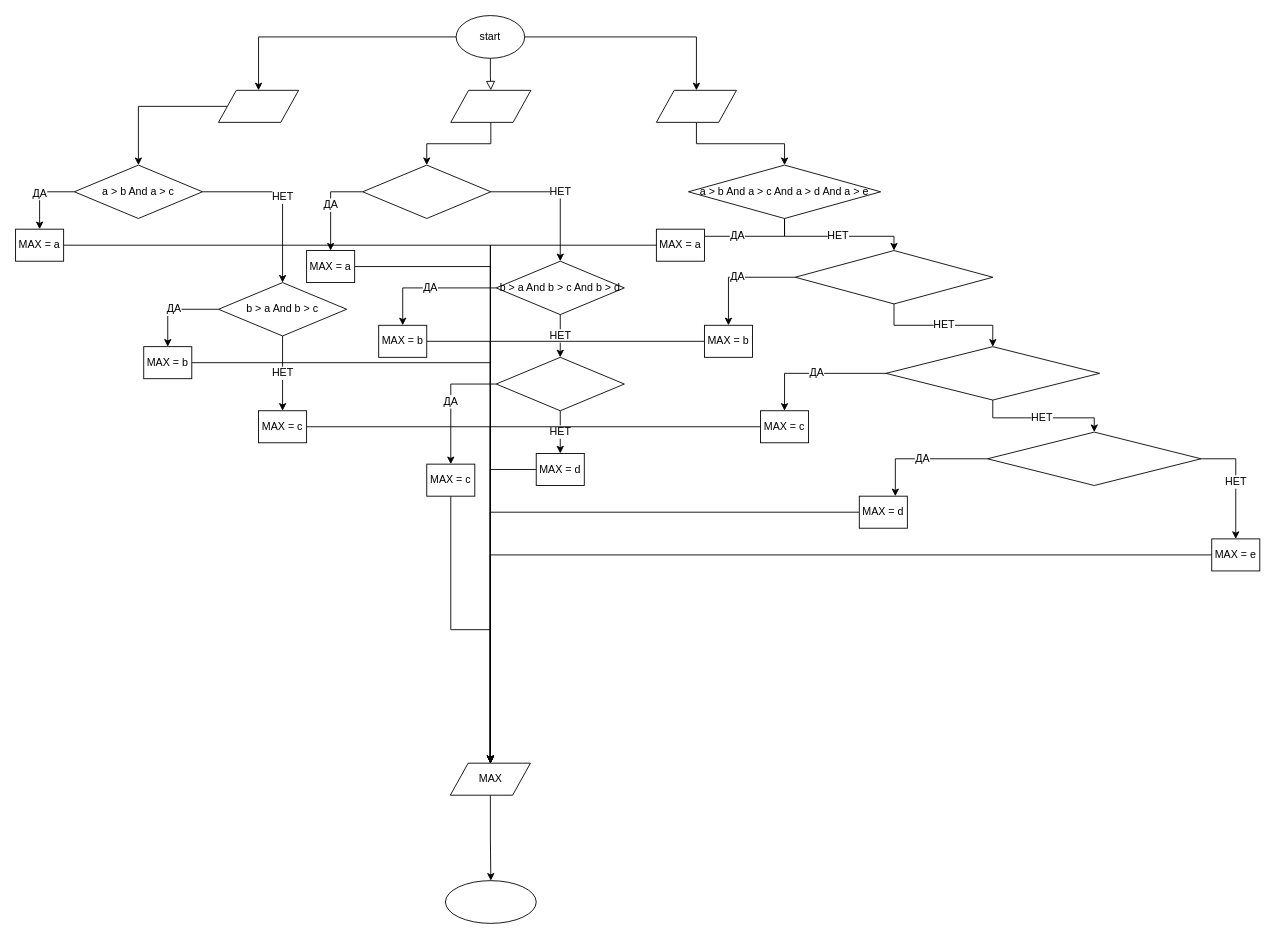
This 1275x939 diagram has some shape labels left out. The shapes that lost their labels are listed below. From the top down, each one's centre as x and y in pixels, then its label:
At pixel 258 105: "a, b, c".
At pixel 490 105: "a, b, c, d".
At pixel 695 105: "a, b, c, d, e".
At pixel 426 191: "a > b And a > c And a > d".
At pixel 893 277: "b > a And b > c And b > d And b > e".
At pixel 559 383: "c > a And c > b And c > d".
At pixel 992 373: "c > a And c > b And c > d And c > e".
At pixel 1094 458: "d > a And d > b And d > c And d > e".
At pixel 490 901: "end".
